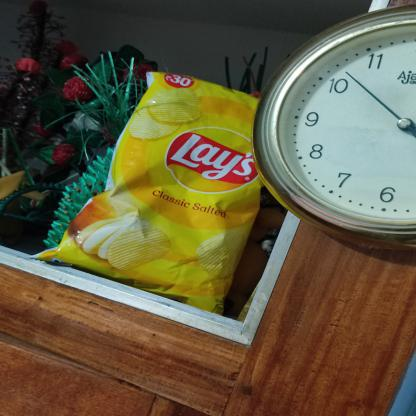classicsalted: (29, 71, 262, 318)
